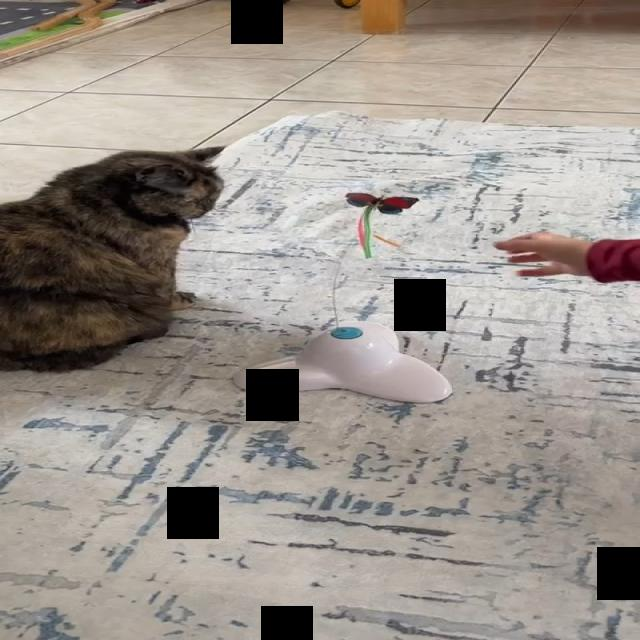authorized: (0, 145, 227, 373)
